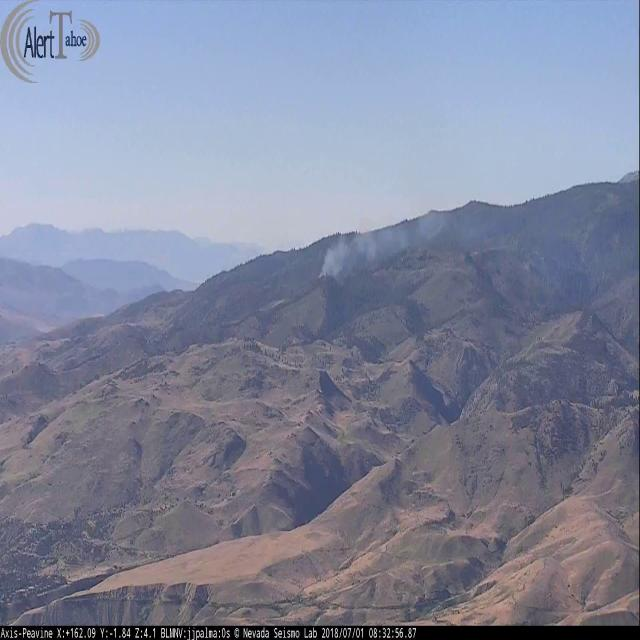smoke: (317, 197, 640, 277)
